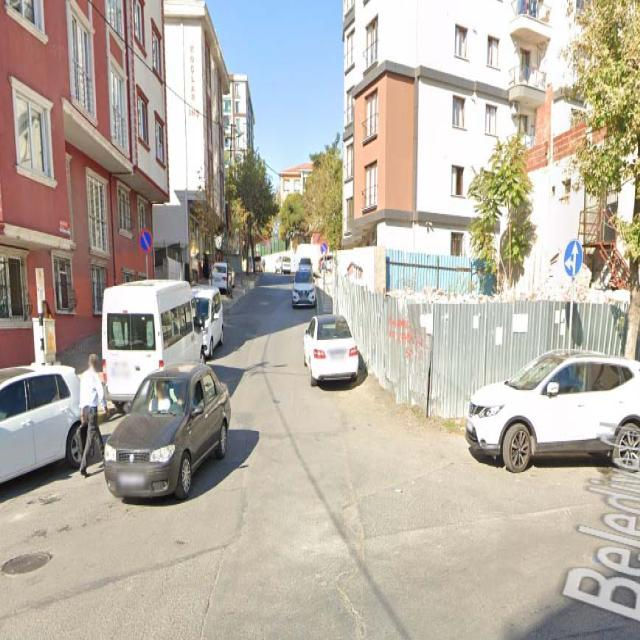ilerisol: (564, 239, 582, 277)
parkyasak: (139, 227, 153, 253)
